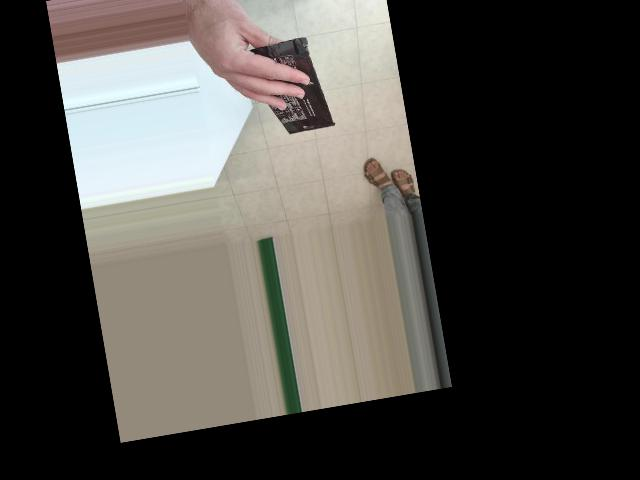chocolate: (292, 60, 407, 164)
